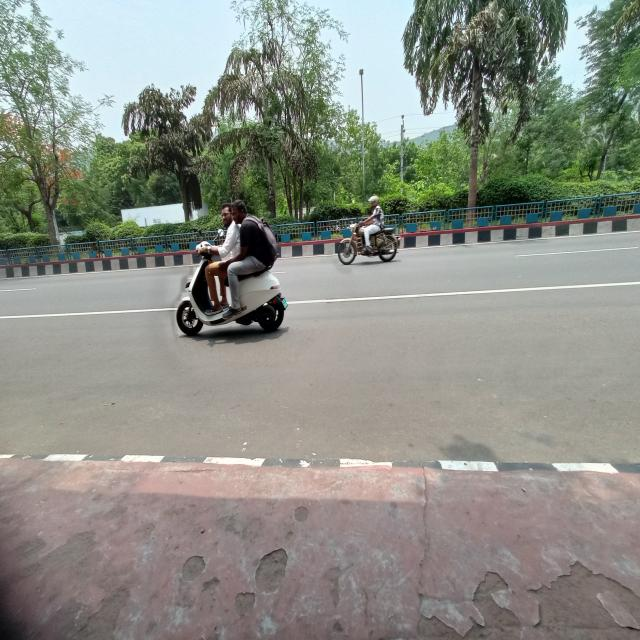bike: (163, 240, 293, 342), (334, 218, 408, 268)
